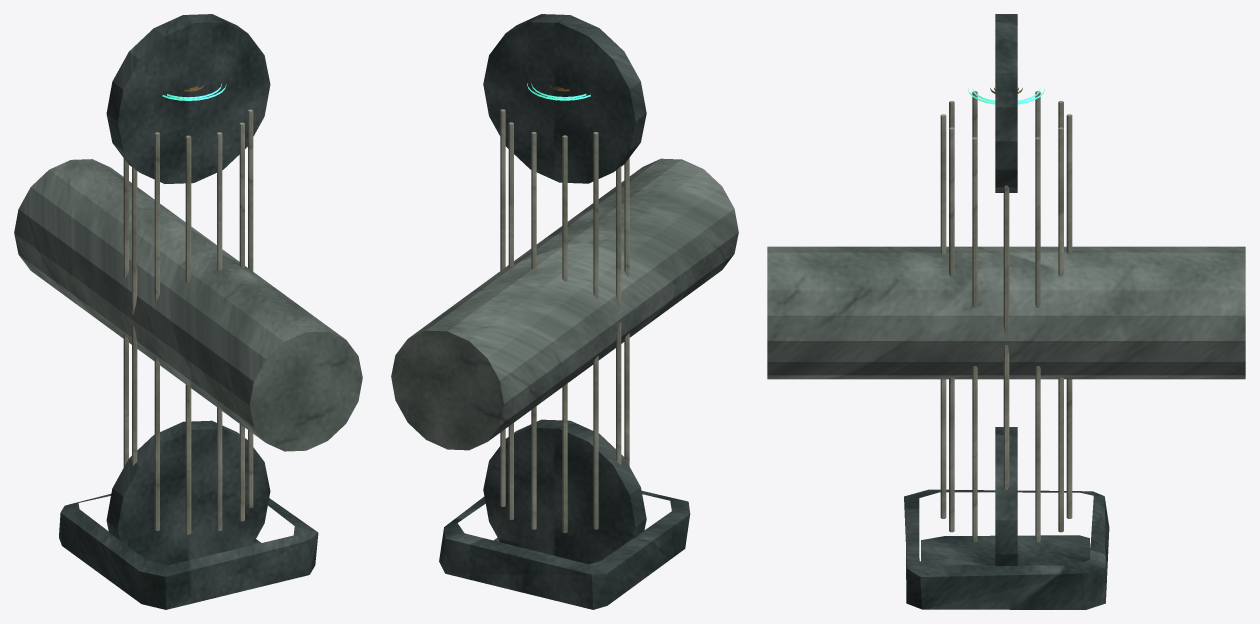
Rendered from 0293_fluted_column_18.glb.
3 views of the same model, side by side, from view 1: azimuth 30°, elevation 25°; view 2: azimuth 150°, elevation 25°; view 3: azimuth 270°, elevation 25° (orthographic).
Parts seen in each view (by area): view 1: stone_dark, stone, stone_light; view 2: stone_dark, stone, stone_light; view 3: stone, stone_dark, stone_light.
Boxes of the visible parts, x1,y1,x2,y2 form: stone_dark: [59, 14, 318, 609]; stone: [14, 159, 362, 451]; stone_light: [123, 109, 253, 534]; stone_dark: [439, 14, 690, 609]; stone: [391, 158, 738, 450]; stone_light: [500, 109, 629, 532]; stone: [767, 246, 1245, 379]; stone_dark: [904, 14, 1109, 609]; stone_light: [940, 91, 1072, 541].
Bounding box in the file's own units: 1.28 × 3.95 × 2.98.
5 materials, 5 textured.
